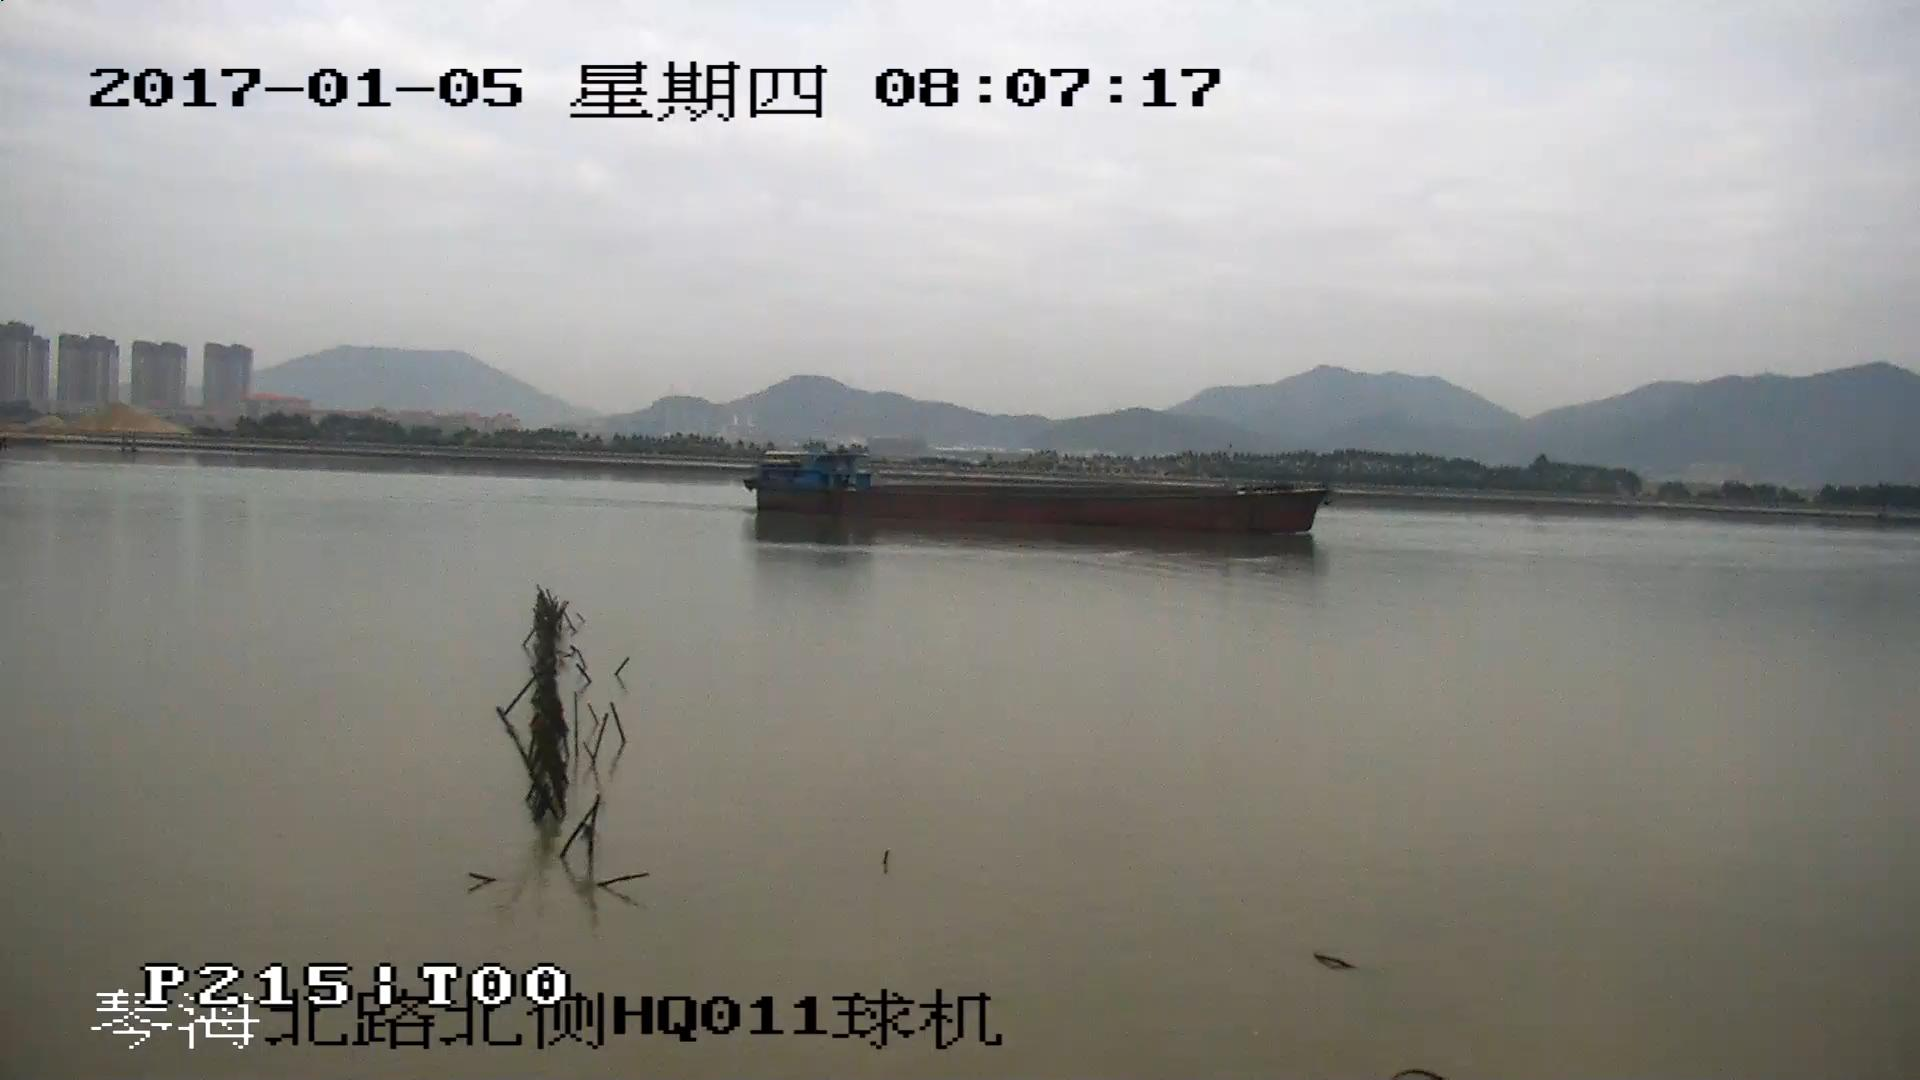bulk cargo carrier: (741, 448, 1329, 538)
